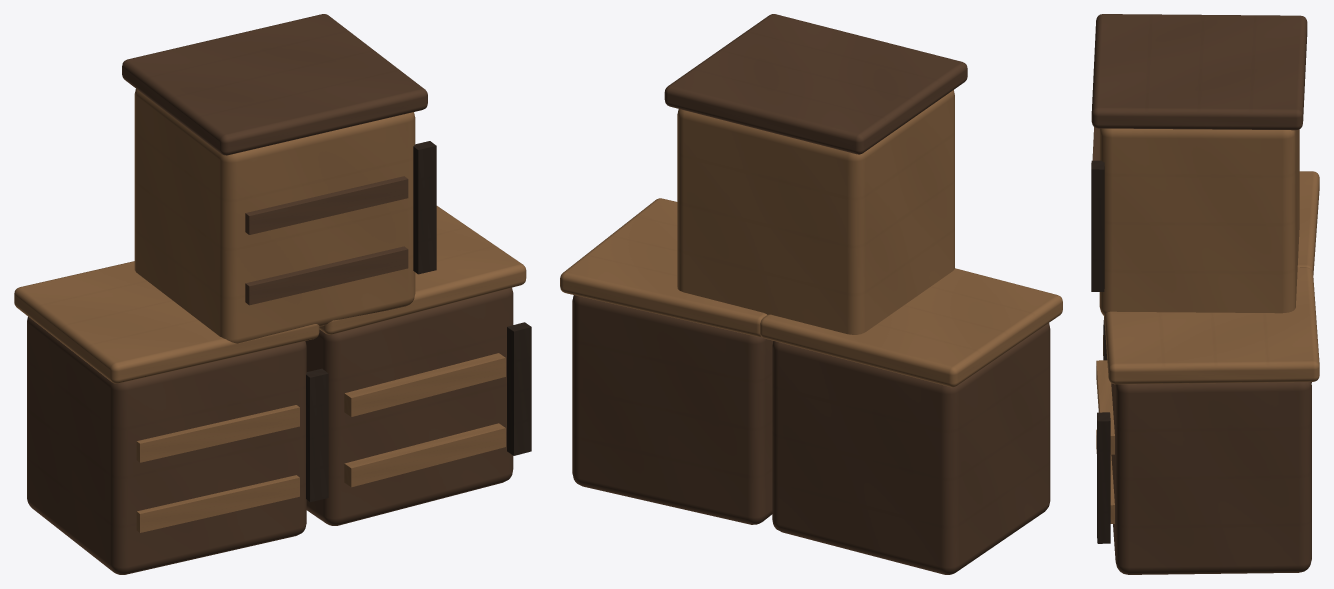
The model's file is sk-household-crate-stack.glb.
3 renders of one model, left to right at view 1: azimuth 30°, elevation 25°; view 2: azimuth 150°, elevation 25°; view 3: azimuth 270°, elevation 25°, orthographic.
Visible parts, largest first — view 1: household:crate_stack-static-wood (×3); view 2: household:crate_stack-static-wood (×2); view 3: household:crate_stack-static-wood (×3).
Boxes of the visible parts, x1,y1,x2,y2 form: household:crate_stack-static-wood (×3): [14, 14, 531, 574]; household:crate_stack-static-wood (×2): [560, 14, 1062, 574]; household:crate_stack-static-wood (×3): [1091, 14, 1319, 574].
Bounding box in the file's own units: 1.26 × 1.24 × 0.6078.
4 materials, 4 textured.
